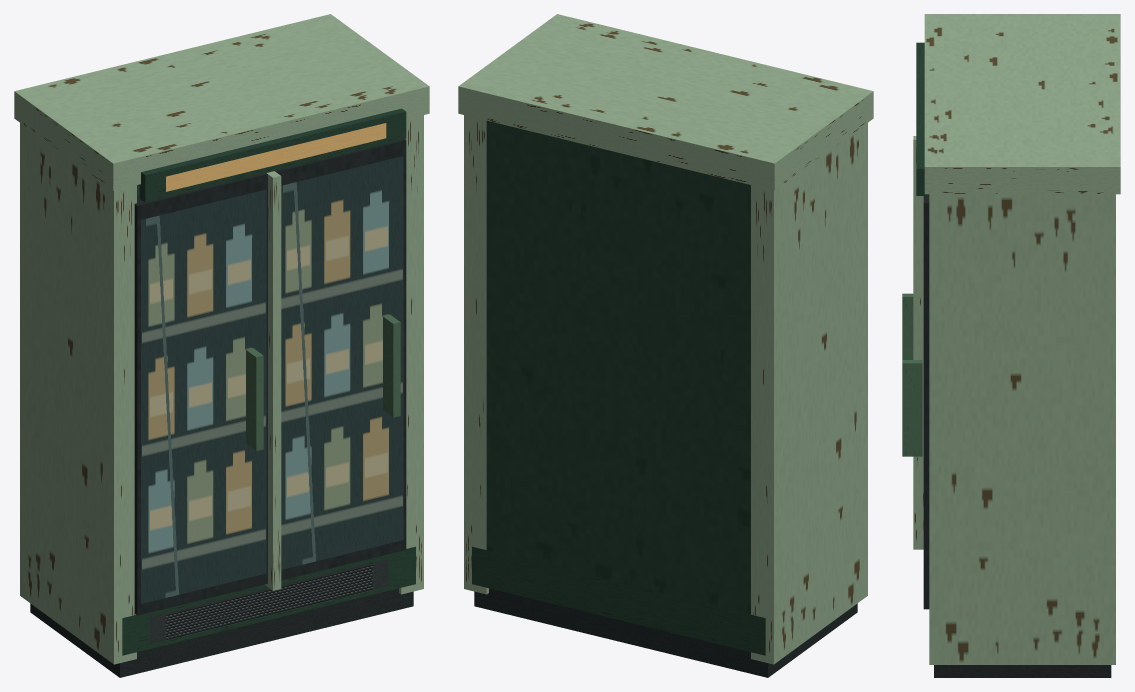
The model's file is Refrigerator.fbx.
3 views of the same model, side by side, from view 1: azimuth 30°, elevation 25°; view 2: azimuth 150°, elevation 25°; view 3: azimuth 270°, elevation 25° (orthographic).
Parts seen in each view (by area): view 1: Refrigerator; view 2: Refrigerator; view 3: Refrigerator.
Boxes of the visible parts, x1,y1,x2,y2 form: Refrigerator: (14,14,429,677); Refrigerator: (458,14,873,677); Refrigerator: (902,14,1120,677).
Bounding box in the file's own units: 194 × 305 × 117.
